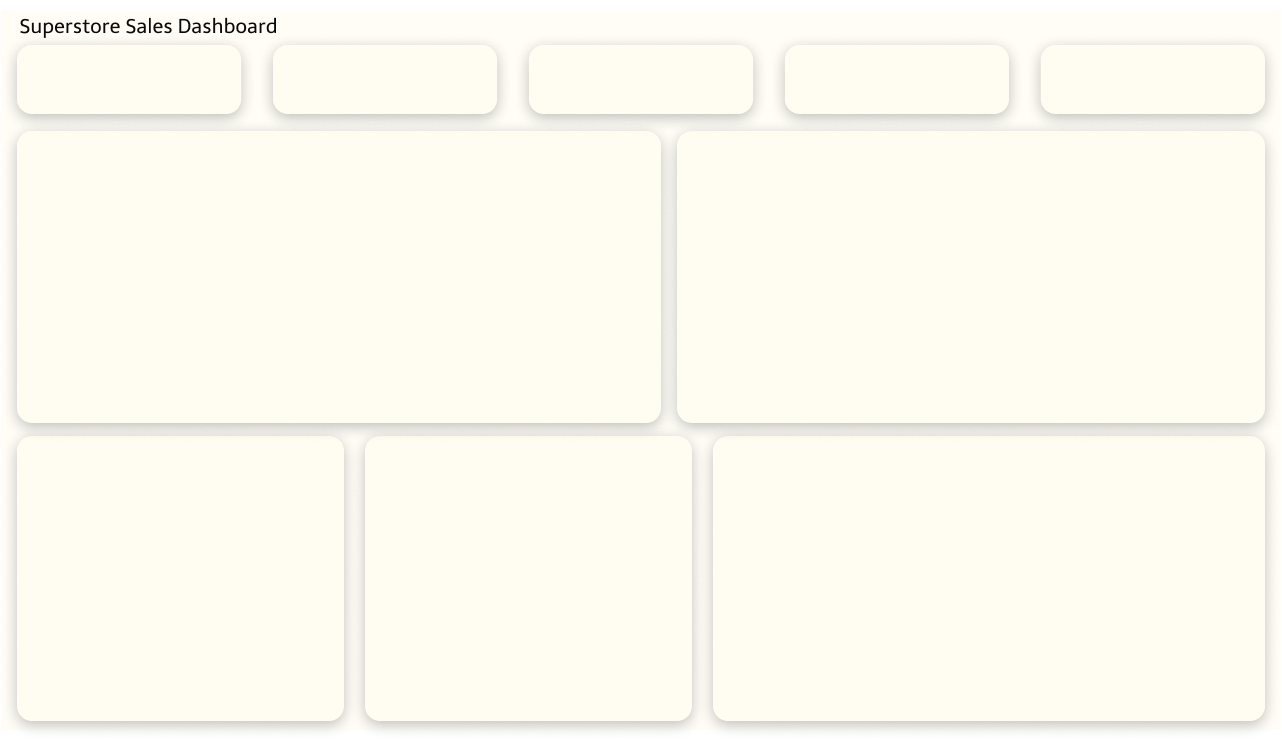

This screenshot's page, from the dashboard's own definition file:
{"tool":"powerbi","page":{"name":"Page 1","canvas":[1280,720],"ordinal":0},"visuals":[{"type":"card","title":"Total Sales","fields":{"Values":["superstore.Revenue"]},"box":[20.6,28.8,211.1,67.2],"z":0},{"type":"card","title":"Total Profit","fields":{"Values":["superstore.Total_Profit"]},"box":[282.4,32.9,205.6,63.1],"z":1000},{"type":"card","title":"Profit Margin %","fields":{"Values":["superstore.Profit_Margin"]},"box":[546.9,32.9,187.8,63.1],"z":2000},{"type":"card","title":"Total Orders","fields":{"Values":["CountNonNull(superstore.Order ID)"]},"box":[1054.1,32.9,201.5,63.1],"z":3000},{"type":"card","title":"Total Customers","fields":{"Values":["Count(superstore.Customer ID)"]},"box":[797.8,32.9,196,63.1],"z":4000},{"type":"lineChart","title":"Sales & Profit Trend","fields":{"Y":["superstore.Total_Sales","superstore.Total_Profit"],"Y2":["superstore.Profit_Margin"],"Category":["DateTable.MonthName"]},"box":[20.6,122,637.4,283.7],"z":5000},{"type":"clusteredBarChart","title":"Top 10 Customers","fields":{"Category":["superstore.Customer Name"],"Y":["Sum(superstore.Sales)"]},"box":[681.3,112.4,574.3,293.3],"z":6000},{"type":"donutChart","title":"Total Sales By Category","fields":{"Category":["superstore.Category"],"Y":["Sum(superstore.Sales)"]},"box":[20.4,425.9,319.4,281.5],"z":7000},{"type":"pieChart","title":"Total Sales By Ship Mode","fields":{"Y":["Sum(superstore.Sales)"],"Category":["superstore.Ship Mode"]},"box":[366.7,425.9,323.1,281.5],"z":8000},{"type":"columnChart","title":"Top 5 State By Total Sales","fields":{"Category":["superstore.State"],"Y":["Sum(superstore.Sales)"]},"box":[713.9,425.9,552.8,281.5],"z":9000}]}

Visuals, with their boxes in screenshot pixels (x1, y1, x2, y2), scaled from the page's 1280x720 canvas onto the 1282x742 screenshot:
"Total Sales" card: 21 30 232 99
"Total Profit" card: 283 34 489 99
"Profit Margin %" card: 548 34 736 99
"Total Orders" card: 1056 34 1258 99
"Total Customers" card: 799 34 995 99
"Sales & Profit Trend" lineChart: 21 126 659 418
"Top 10 Customers" clusteredBarChart: 682 116 1258 418
"Total Sales By Category" donutChart: 20 439 340 729
"Total Sales By Ship Mode" pieChart: 367 439 691 729
"Top 5 State By Total Sales" columnChart: 715 439 1269 729
